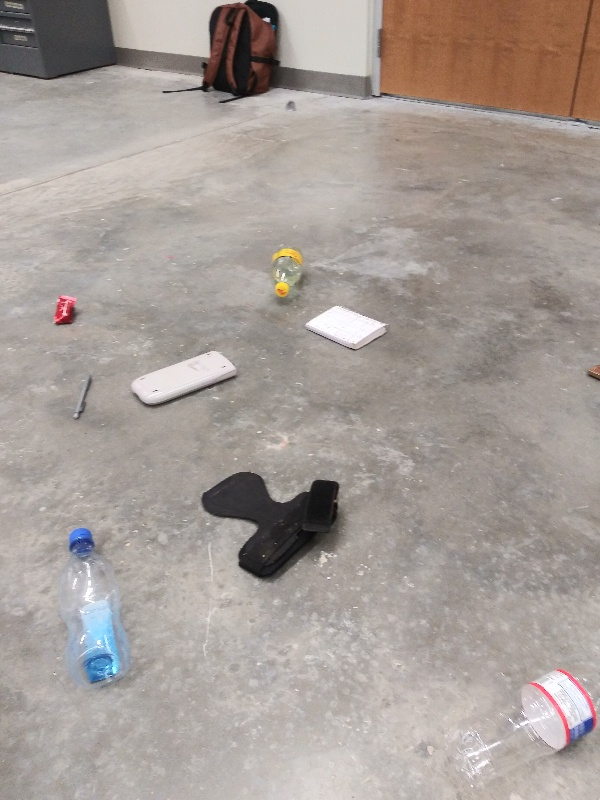bottle: (441, 657, 600, 791), (56, 527, 133, 689), (268, 241, 310, 301)
